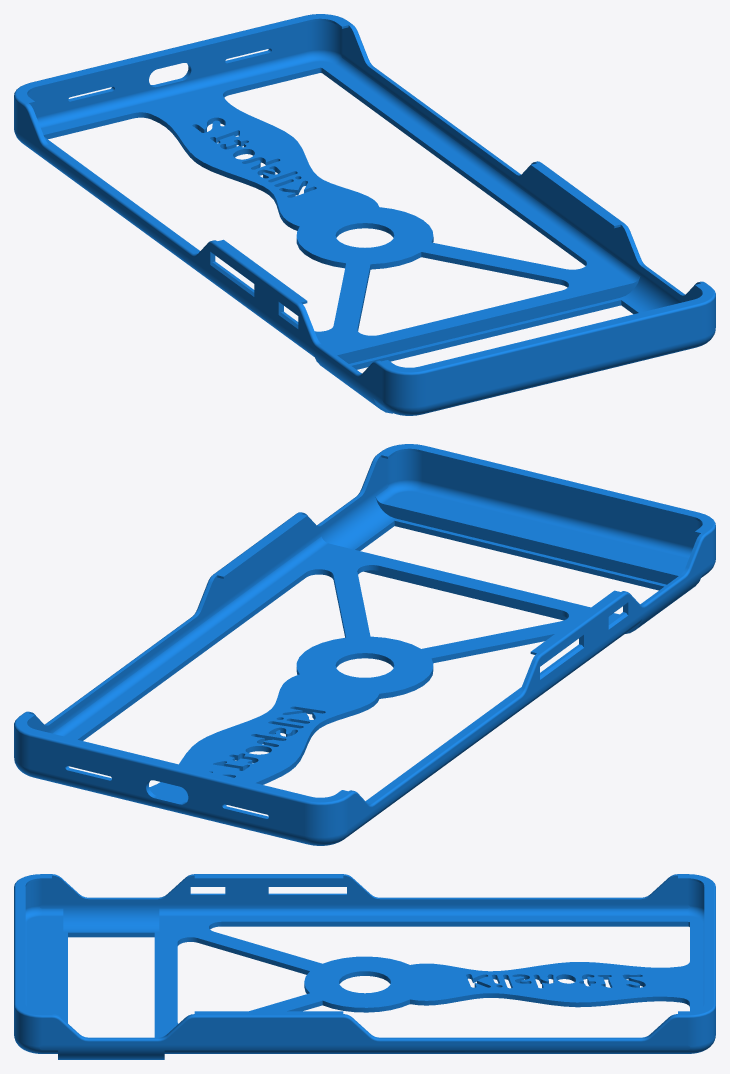
Rendered from case1.glb.
3 views of the same model, one above another, from view 1: azimuth 30°, elevation 25°; view 2: azimuth 150°, elevation 25°; view 3: azimuth 270°, elevation 25° (orthographic). The views are drawn at different scales.
Parts seen in each view (by area): view 1: case1; view 2: case1; view 3: case1.
Boxes of the visible parts, left/top/right/bottom form: case1: left=14, top=14, right=715, bottom=415; case1: left=14, top=444, right=715, bottom=845; case1: left=14, top=874, right=715, bottom=1059.
Size of the model in its own units: 0.0778 by 0.0133 by 0.1616.
